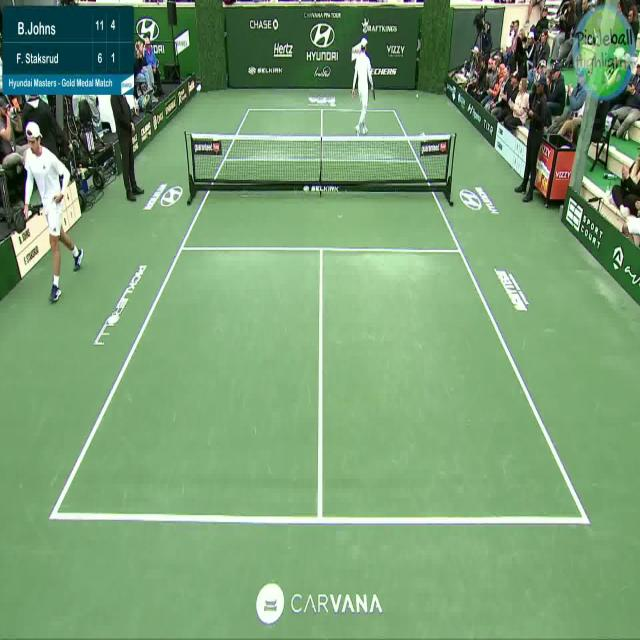ball: (416, 93, 418, 99)
